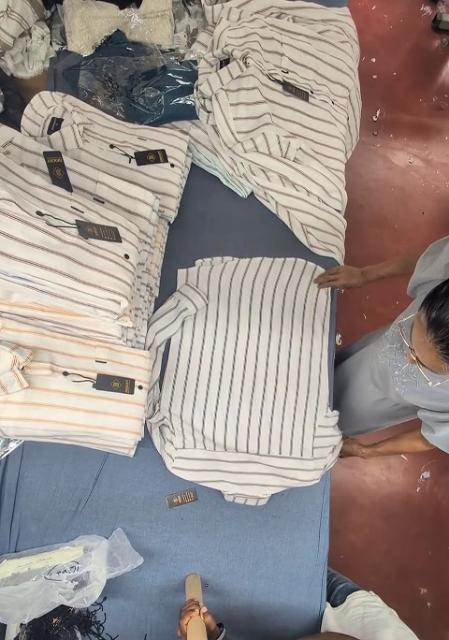new-garment: (147, 257, 341, 505)
